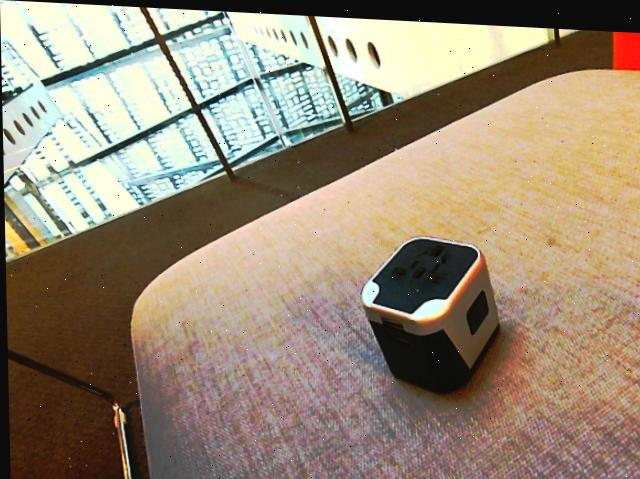adapter: (358, 228, 498, 391)
